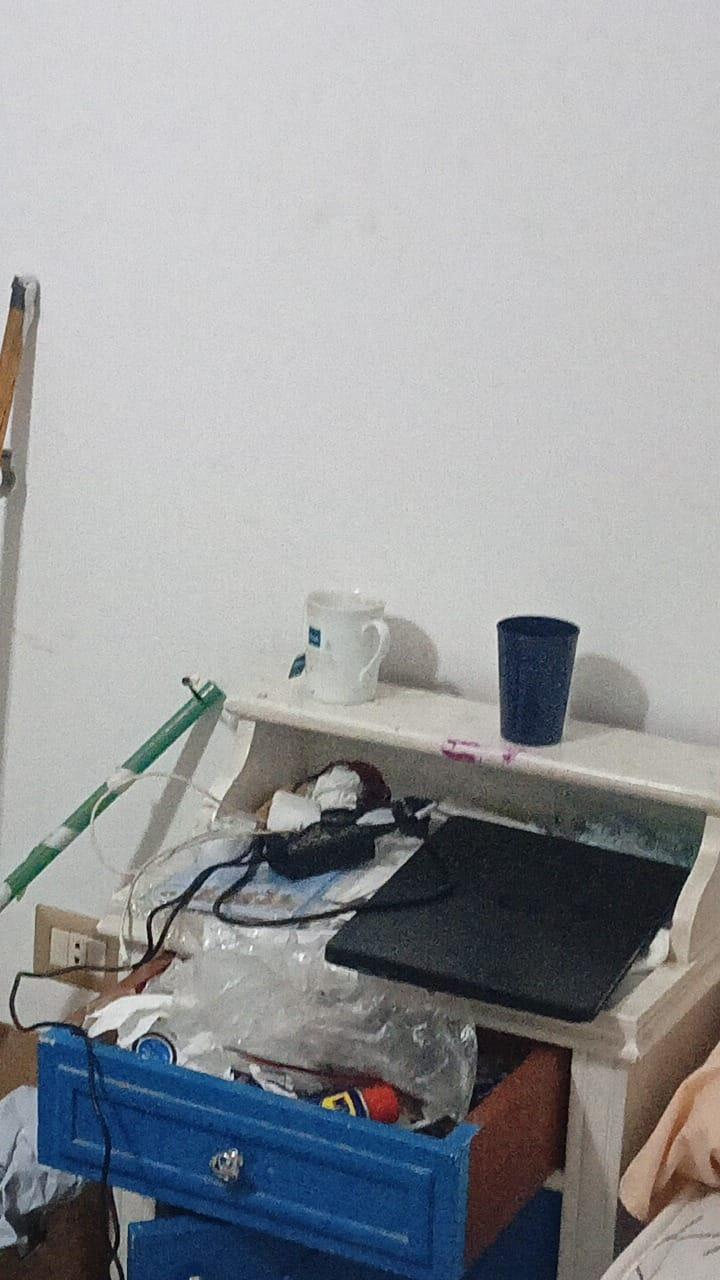cup: (497, 616, 578, 745), (305, 591, 388, 704)
